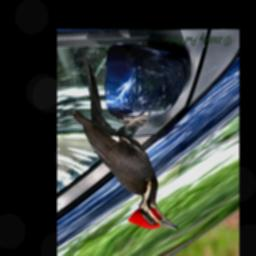Woodpecker: (70, 47, 180, 231)
